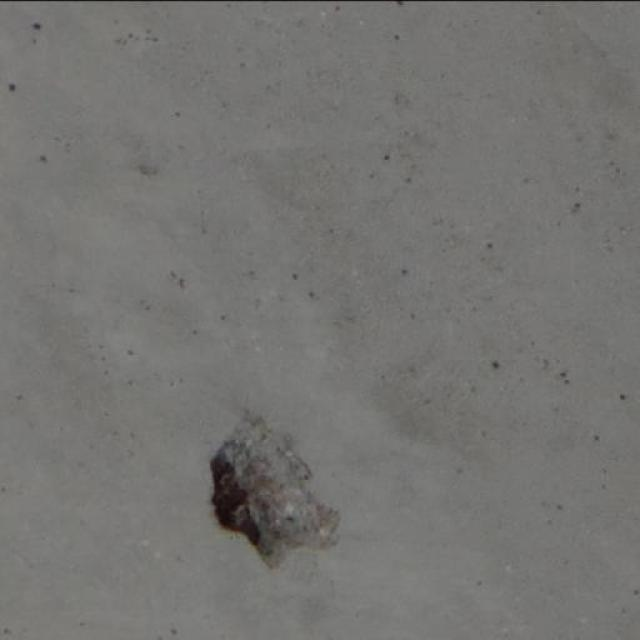D10: (208, 414, 340, 570)
